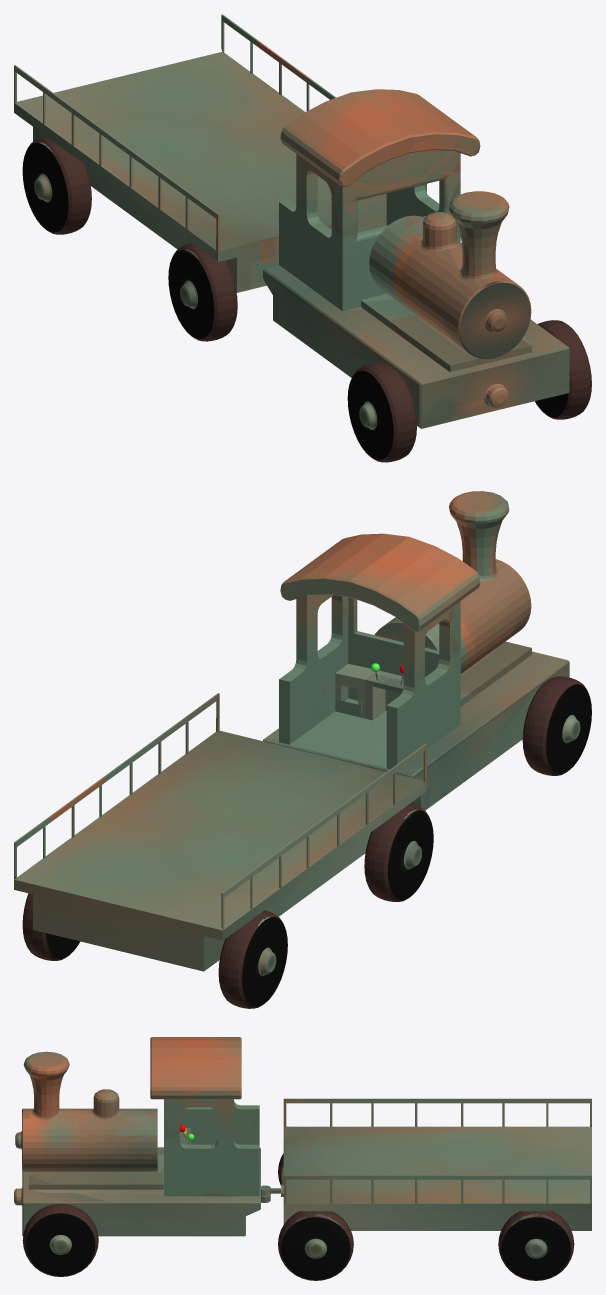
The model's file is CatTrain.fbx.
3 views of the same model, one above another, from view 1: azimuth 30°, elevation 25°; view 2: azimuth 150°, elevation 25°; view 3: azimuth 270°, elevation 25° (orthographic). The views are drawn at different scales.
Visible parts, largest first — view 1: Cube.008; view 2: Cube.008; view 3: Cube.008.
Part boxes in pixels (x1=…): Cube.008: x1=14, y1=14, x2=591, y2=462; Cube.008: x1=14, y1=491, x2=591, y2=1008; Cube.008: x1=14, y1=1037, x2=591, y2=1280.
Bounding box in the file's own units: 233 × 245 × 660.
1 material, 1 textured.
